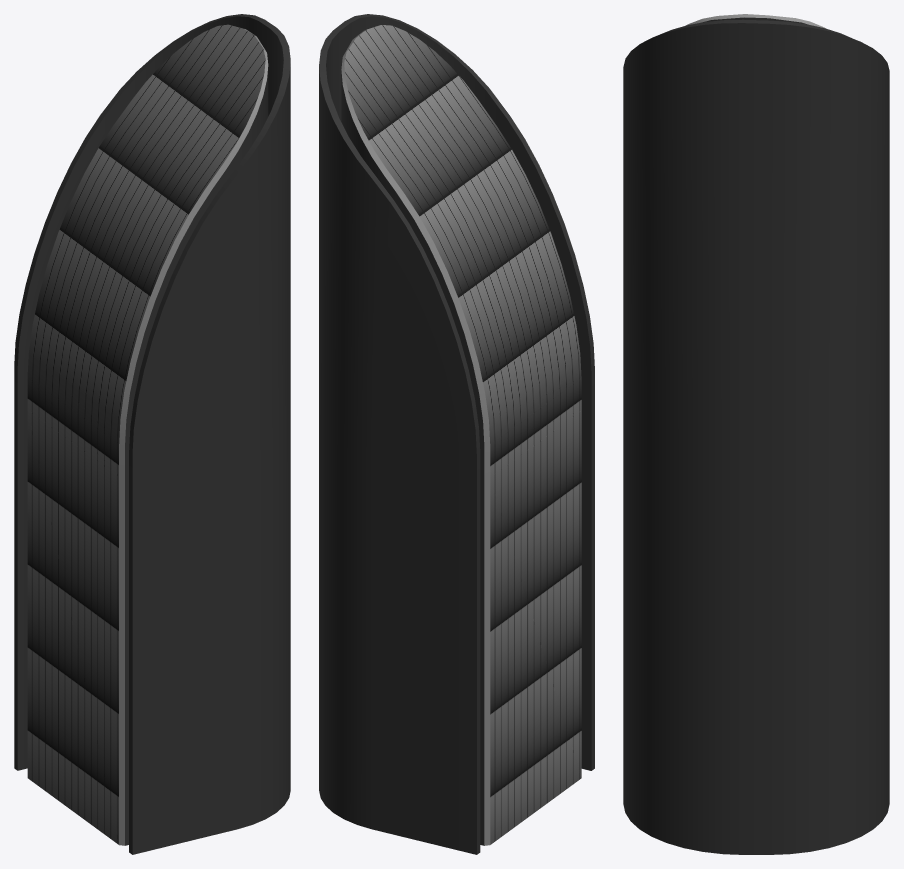
The model's file is build7.gltf.
The picture shows the model from 3 angles, left to right: view 1: azimuth 30°, elevation 25°; view 2: azimuth 150°, elevation 25°; view 3: azimuth 270°, elevation 25°; orthographic projection. The views are drawn at different scales.
Visible parts, largest first — view 1: Object_116.001; view 2: Object_116.001; view 3: Object_116.001.
Part boxes in pixels (bbox=[...]): Object_116.001: bbox=[14, 14, 290, 854]; Object_116.001: bbox=[319, 14, 594, 854]; Object_116.001: bbox=[623, 14, 889, 854].
Size of the model in its own units: 7.08 by 25.35 by 7.35.
3 materials, 2 textured.
